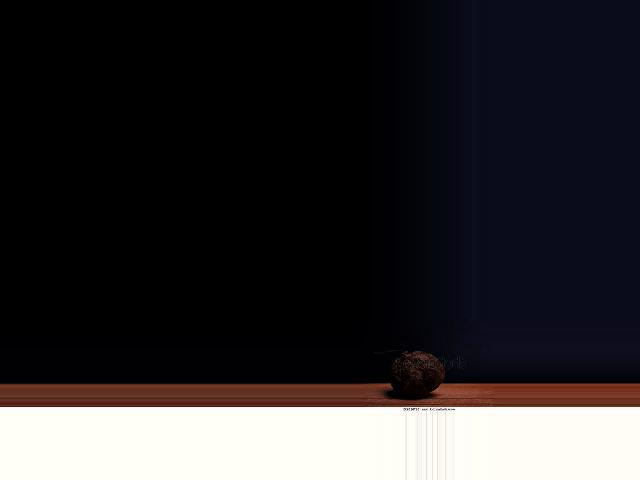beet: (372, 350, 444, 398)
